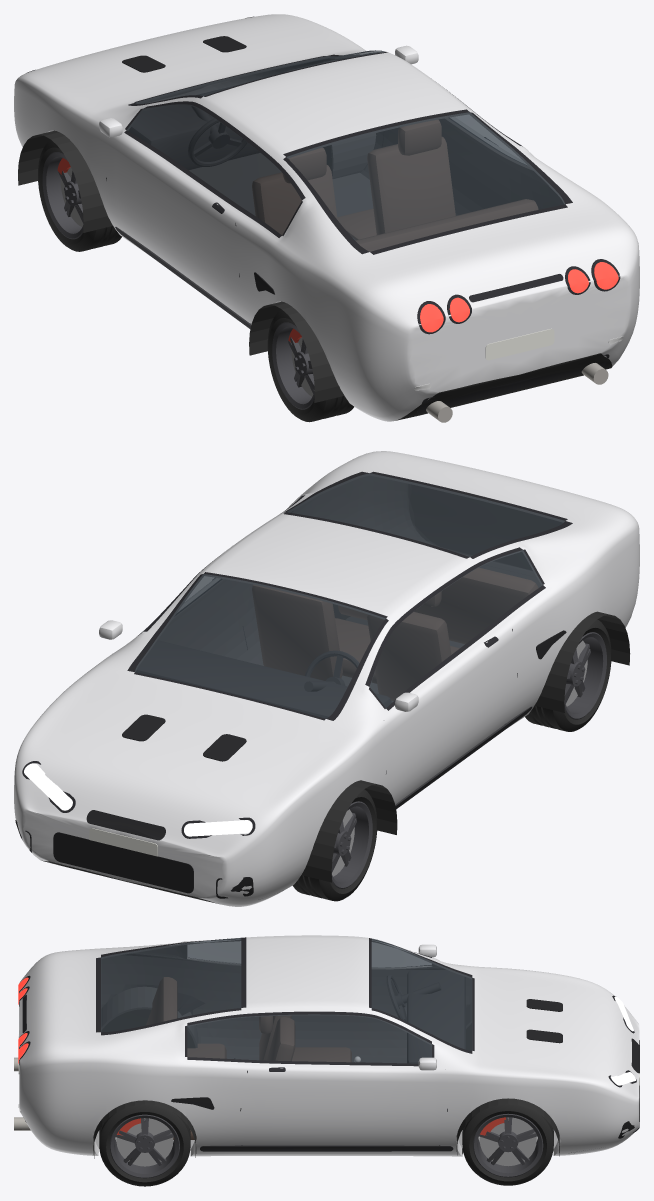
Rendered from 04_kaze_coupe.glb.
3 views of the same model, one above another, from view 1: azimuth 30°, elevation 25°; view 2: azimuth 150°, elevation 25°; view 3: azimuth 270°, elevation 25° (orthographic). The views are drawn at different scales.
Parts seen in each view (by area): view 1: Body.009, Glass.009, Interior.009, Interior_Shell.008, ArchLiners.008, Wheel_RL.009, Wheel_FL.009, SteeringWheel.009, Diffuser.001, Plate_Rear.008, Lights_Tail.009, SideSkirt.002 (+4 smaller); view 2: Body.009, Glass.009, Interior.009, Interior_Shell.008, ArchLiners.008, Wheel_RL.009, Intake_Main, Wheel_FL.009, Lights_Head.009, Grille_Upper.001, Plate_Front.005, SteeringWheel.009 (+4 smaller); view 3: Body.009, Glass.009, Interior_Shell.008, Interior.009, Wheel_RR.009, Wheel_FR.009, ArchLiners.008, SideSkirt.002, SteeringWheel.009, Side_Vent, Mirror_Housing.008, HoodVent (+1 smaller).
Boxes of the visible parts, x1,y1,x2,y2 form: Body.009: (14, 14, 639, 421); Glass.009: (127, 50, 564, 251); Interior.009: (128, 57, 538, 251); Interior_Shell.008: (127, 53, 564, 215); ArchLiners.008: (18, 130, 344, 402); Wheel_RL.009: (267, 309, 353, 422); Wheel_FL.009: (38, 140, 121, 251); SteeringWheel.009: (188, 106, 247, 166); Diffuser.001: (417, 354, 609, 412); Plate_Rear.008: (485, 328, 554, 360); Lights_Tail.009: (420, 262, 618, 332); SideSkirt.002: (115, 227, 251, 329); Body.009: (14, 451, 639, 906); Glass.009: (135, 473, 564, 718); Interior.009: (136, 567, 538, 718); Interior_Shell.008: (135, 473, 564, 693); ArchLiners.008: (301, 604, 630, 882); Wheel_RL.009: (525, 619, 611, 731); Intake_Main: (53, 832, 193, 893); Wheel_FL.009: (292, 789, 377, 901); Lights_Head.009: (24, 763, 252, 836); Grille_Upper.001: (86, 810, 165, 840); Plate_Front.005: (89, 828, 157, 856); SteeringWheel.009: (304, 650, 359, 691); Body.009: (19, 935, 639, 1156); Glass.009: (101, 938, 472, 1063); Interior_Shell.008: (101, 939, 472, 1154); Interior.009: (146, 970, 465, 1139); Wheel_RR.009: (99, 1104, 190, 1186); Wheel_FR.009: (462, 1104, 553, 1185); ArchLiners.008: (93, 1009, 559, 1158); SideSkirt.002: (200, 1145, 453, 1151); SteeringWheel.009: (386, 975, 441, 1021); Side_Vent: (171, 992, 214, 1109); Mirror_Housing.008: (418, 944, 436, 1070); HoodVent: (526, 1029, 562, 1043).
Size of what is drawn, in the model's own units: 2.03 by 1.3 by 4.45.
